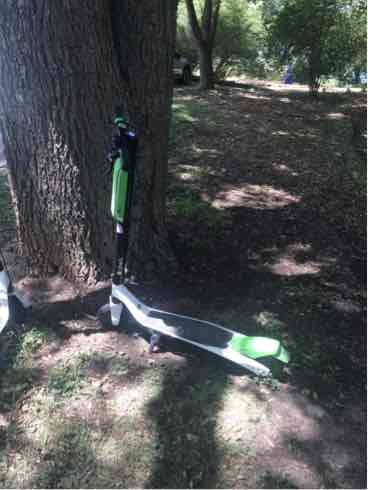scooter: (88, 99, 301, 395)
